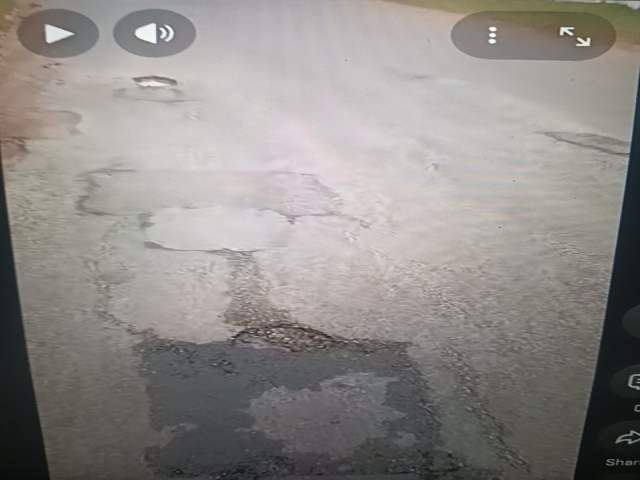pothole: (136, 403, 324, 480), (536, 402, 640, 480)
